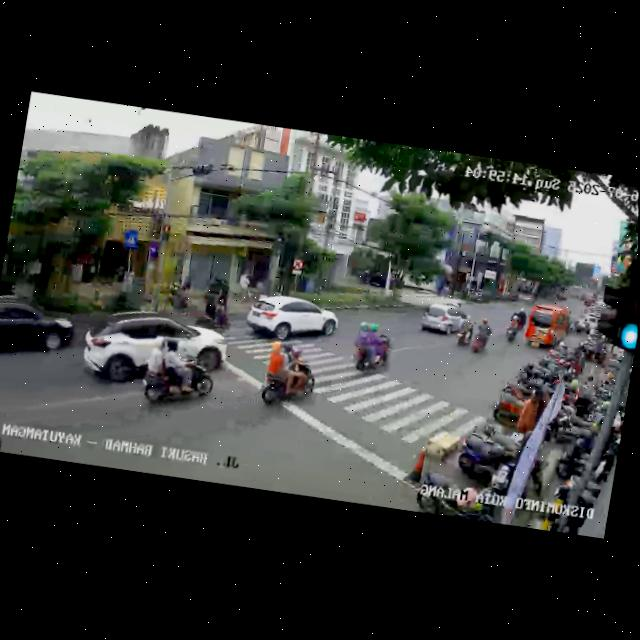car: (79, 303, 231, 400), (0, 293, 75, 372), (244, 289, 339, 350), (523, 302, 573, 354), (417, 299, 473, 343)
motorcycle: (136, 333, 220, 415), (257, 337, 323, 418), (349, 320, 397, 377), (196, 289, 234, 335), (467, 316, 494, 360), (165, 282, 194, 317), (453, 311, 474, 349), (503, 309, 522, 347), (0, 397, 11, 451)
person: (515, 384, 549, 438)
